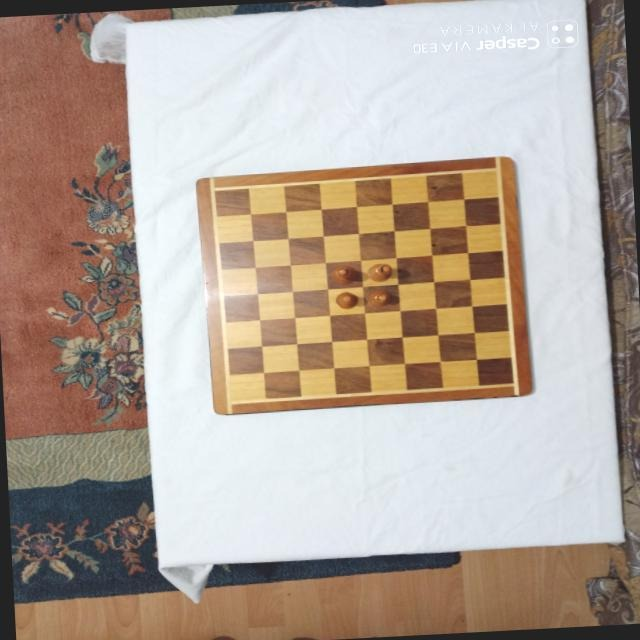white-bishop: (329, 264, 358, 284), (366, 262, 393, 282)
white-pawn: (367, 288, 393, 307), (334, 290, 359, 309)
